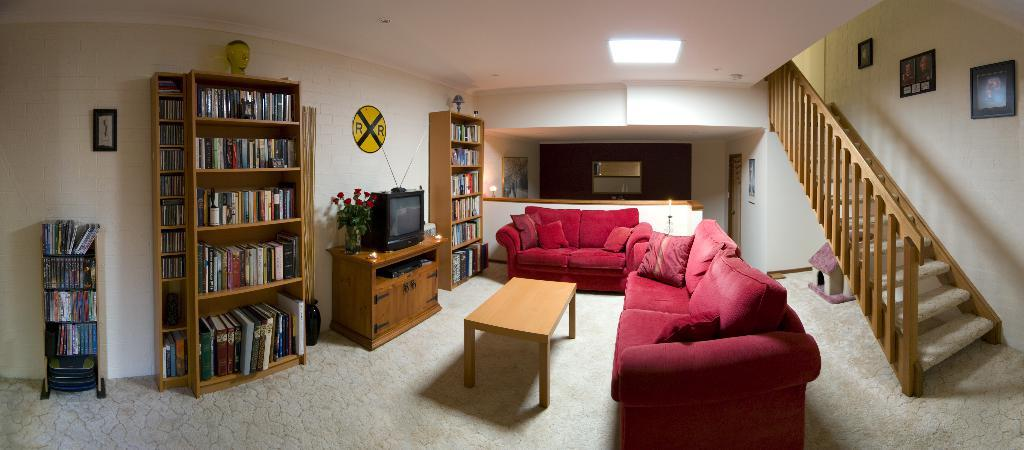Computer-monitor: (360, 187, 425, 252)
